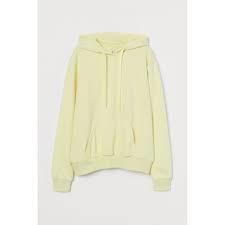sweater: (55, 34, 171, 191)
